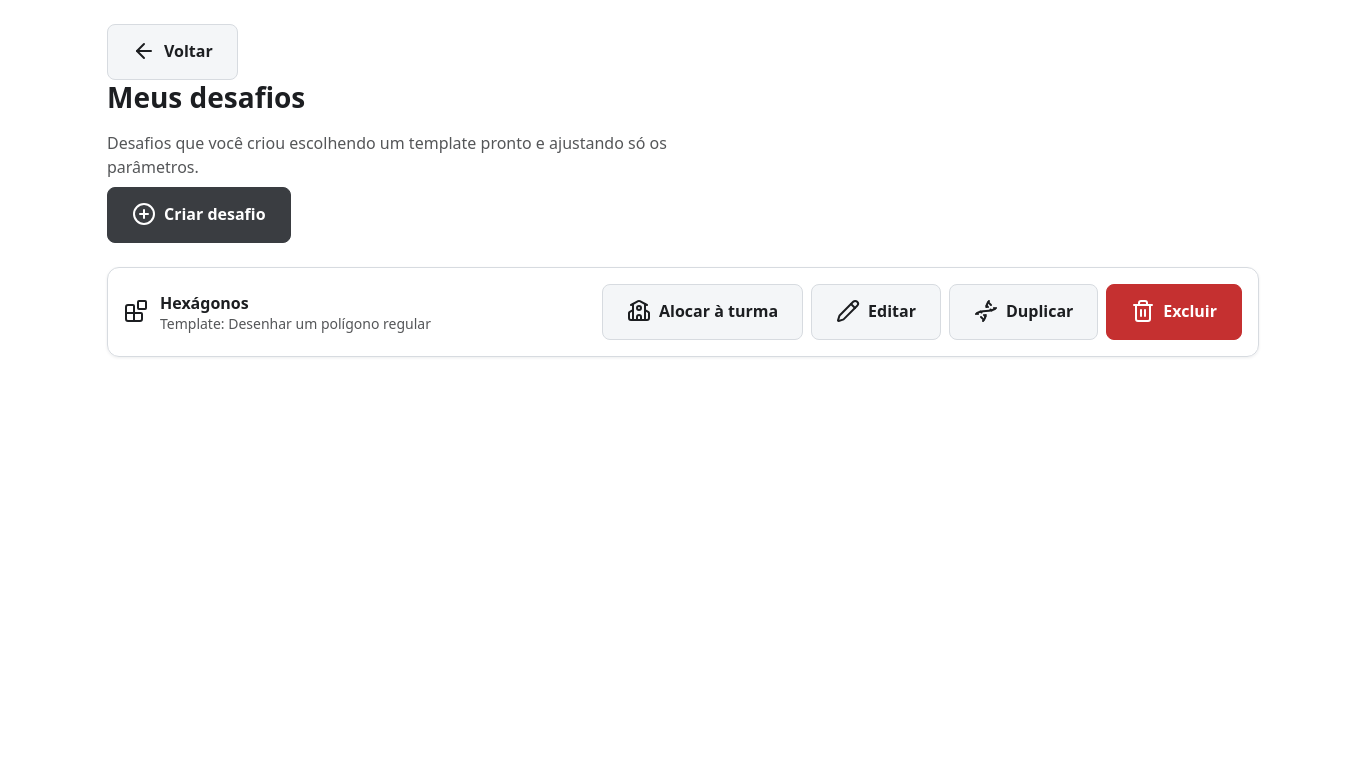
TeacherChallenges › deletes only after the confirmation dialog is accepted, then refreshes the list
Expected: the text "Hexágonos" is shown, [160, 292, 249, 314]
Step 1. Click the button "Excluir" → x=1174, y=312, box [1106, 284, 1242, 340]
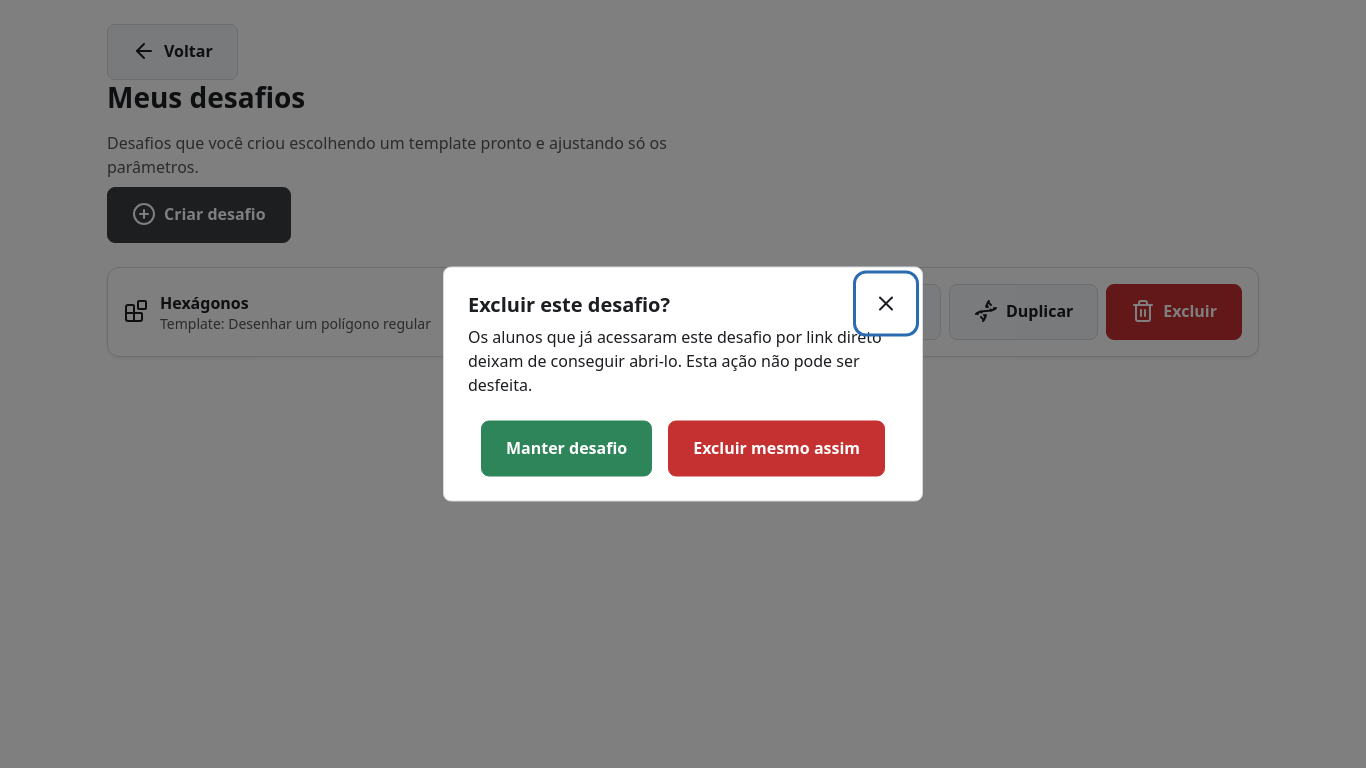
Step 2. Click the button "Excluir mesmo assim" → x=777, y=448, box [668, 420, 885, 476]
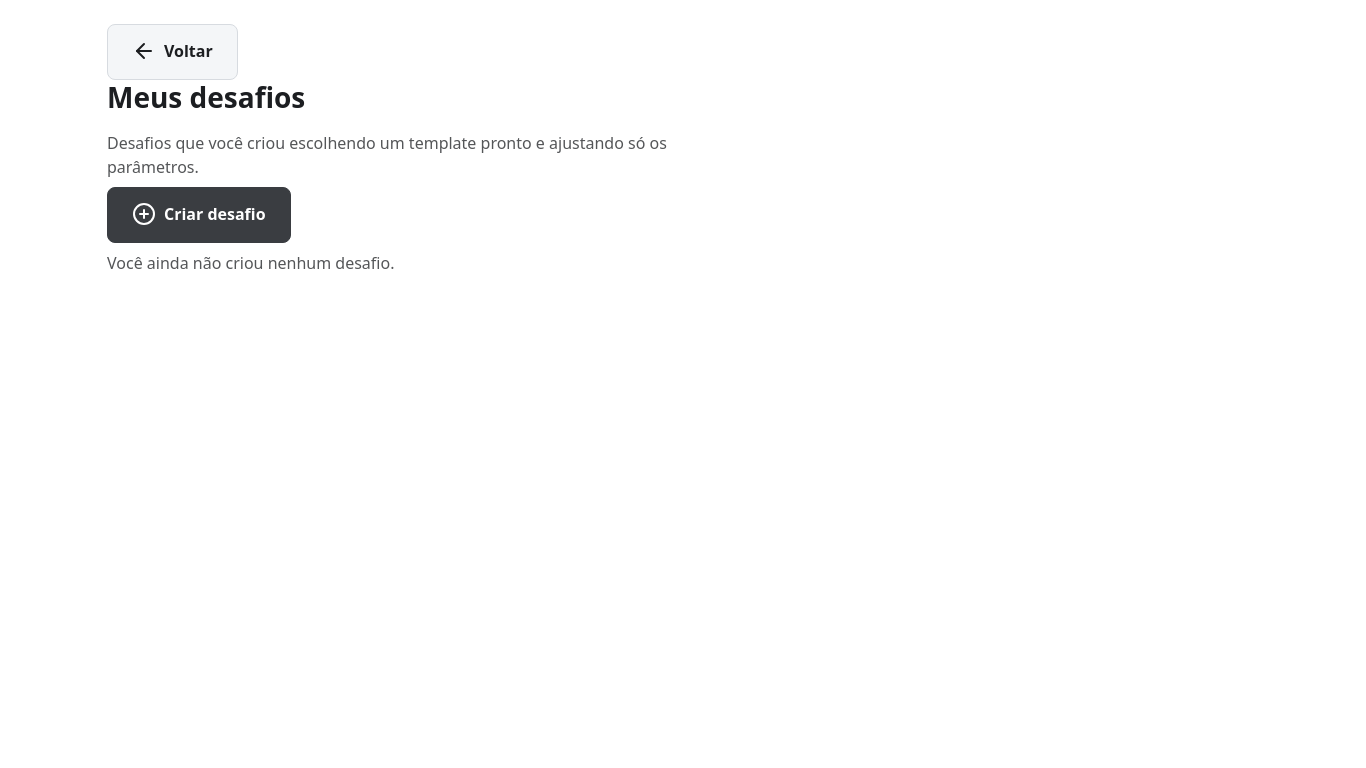
Now the text "Você ainda não criou nenhum desafio." is shown, box [107, 252, 394, 274]
